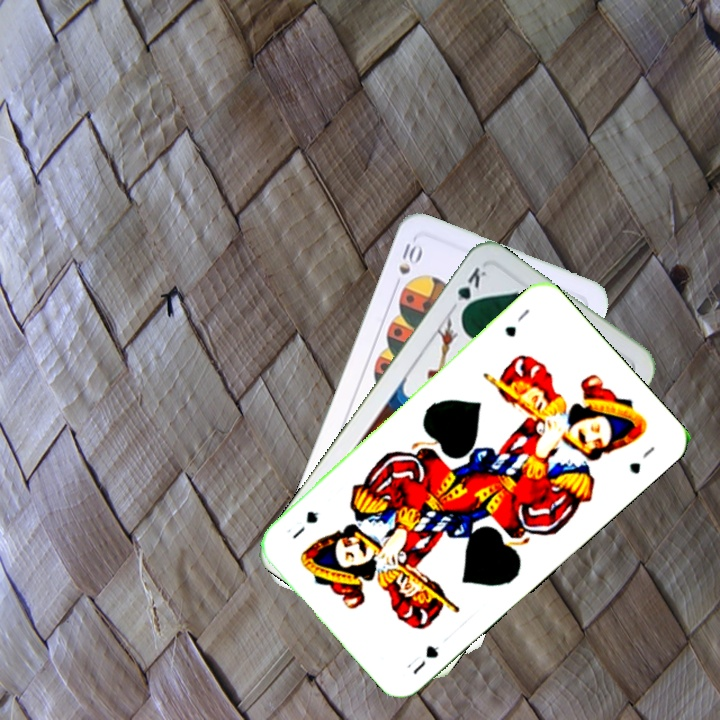GK: (453, 262, 489, 318)
GU: (402, 641, 442, 677), (500, 304, 533, 340)
S10: (389, 239, 424, 292)
